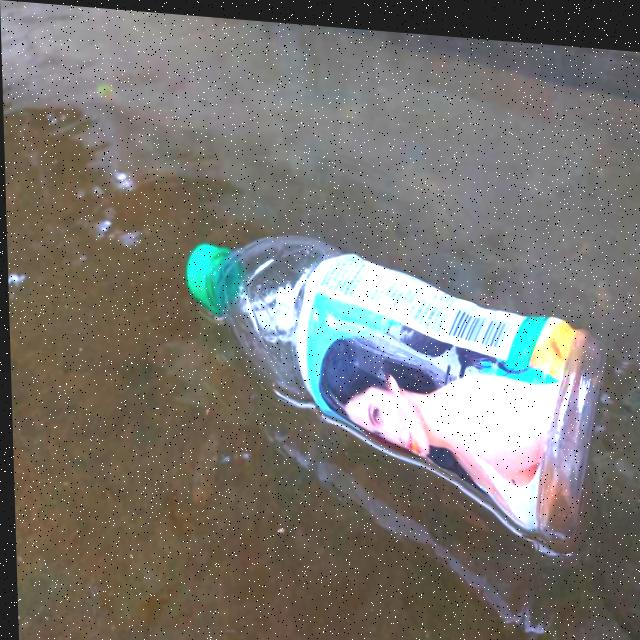waterbottle: (160, 207, 631, 536)
